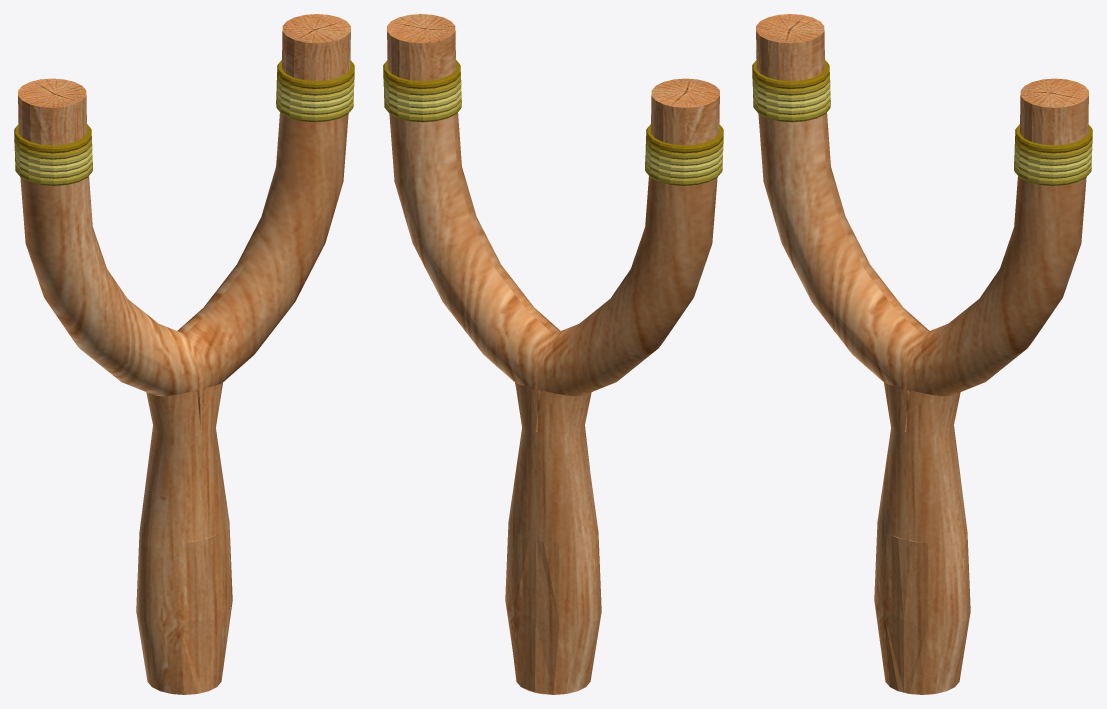
File: Only Sling.fbx
3 views of the same model, side by side, from view 1: azimuth 30°, elevation 25°; view 2: azimuth 150°, elevation 25°; view 3: azimuth 330°, elevation 25° (orthographic).
Parts seen in each view (by area): view 1: Cylinder001; view 2: Cylinder001; view 3: Cylinder001.
Boxes of the visible parts, left/top/right/bottom form: Cylinder001: left=14, top=14, right=354, bottom=694; Cylinder001: left=383, top=14, right=723, bottom=694; Cylinder001: left=752, top=14, right=1092, bottom=694.
Size of the model in its own units: 22.03 by 39.28 by 4.46.
1 material, 1 textured.
